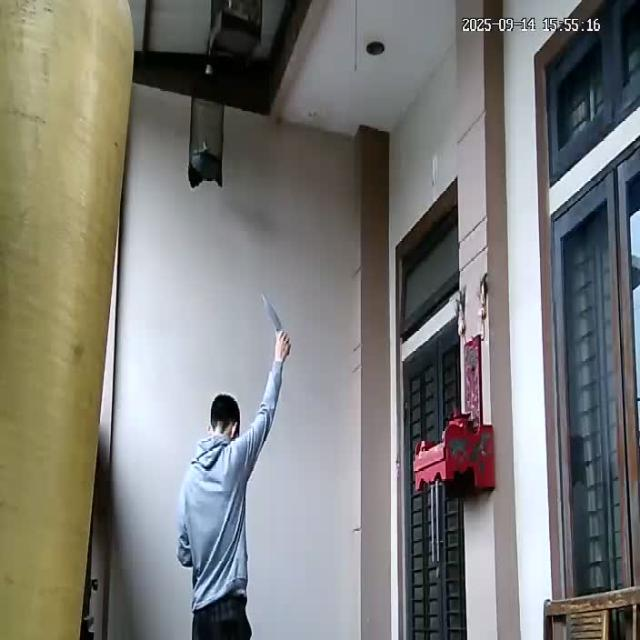senjata_tajam: (260, 292, 282, 332)
